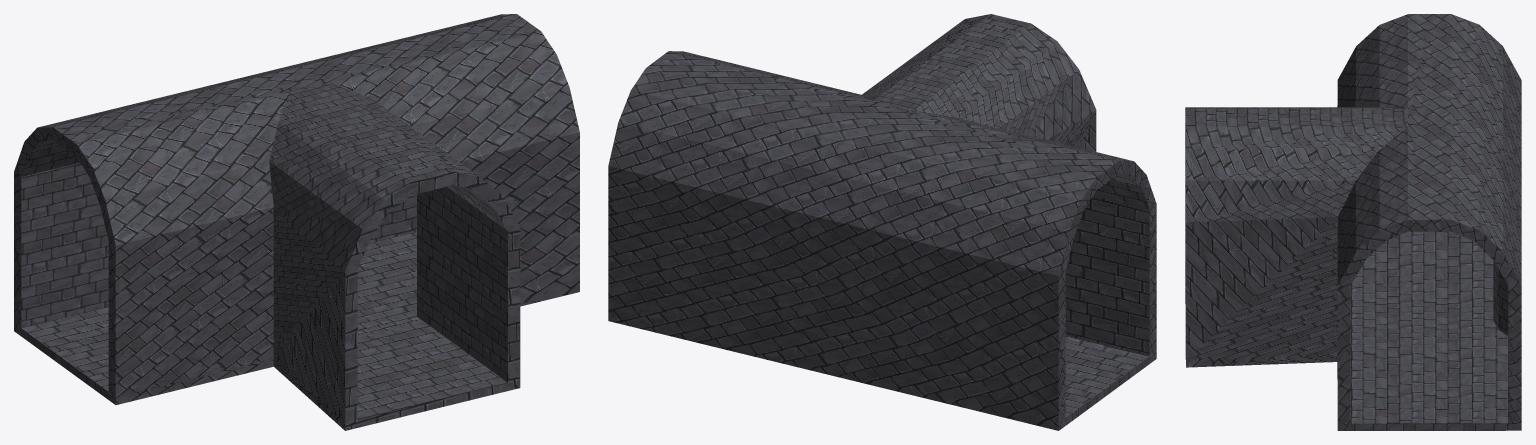
Rendered from dungeonsT.fbx.
3 views of the same model, side by side, from view 1: azimuth 30°, elevation 25°; view 2: azimuth 150°, elevation 25°; view 3: azimuth 270°, elevation 25° (orthographic). The views are drawn at different scales.
Parts seen in each view (by area): view 1: DungedonsMiddle; view 2: DungedonsMiddle; view 3: DungedonsMiddle.
Part boxes in pixels (x1,y1,x2,y2): DungedonsMiddle: [14, 14, 579, 430]; DungedonsMiddle: [608, 14, 1156, 430]; DungedonsMiddle: [1185, 14, 1521, 430].
Size of the model in its own units: 12.2 by 5.83 by 8.42.
